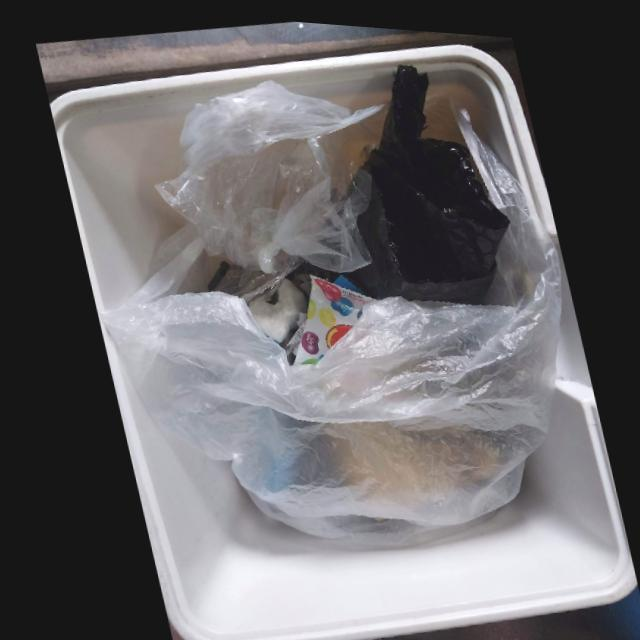plastic: (99, 69, 559, 537), (339, 59, 508, 298)
wrapper: (289, 270, 364, 361)
